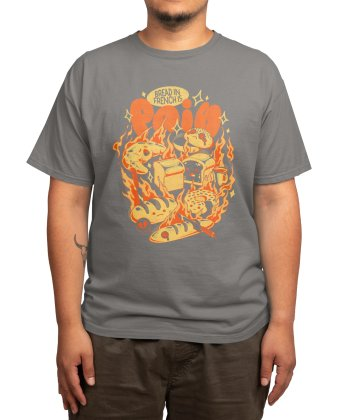design: (108, 83, 240, 247)
